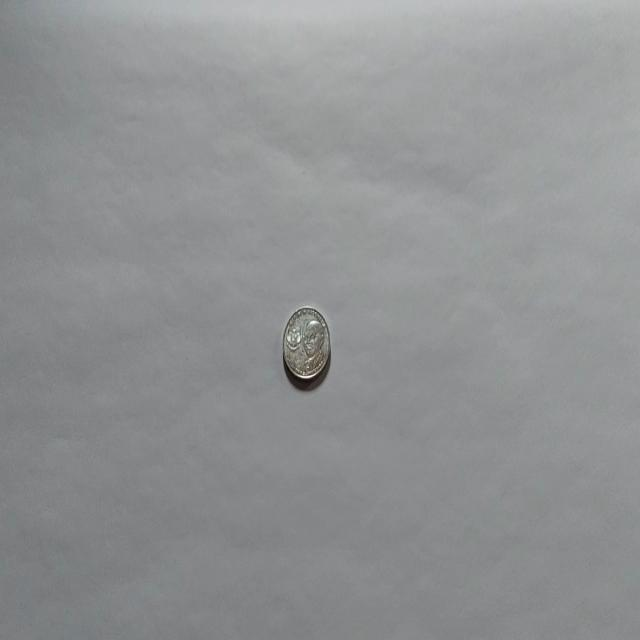lima ratus rupiah: (282, 304, 331, 383)
